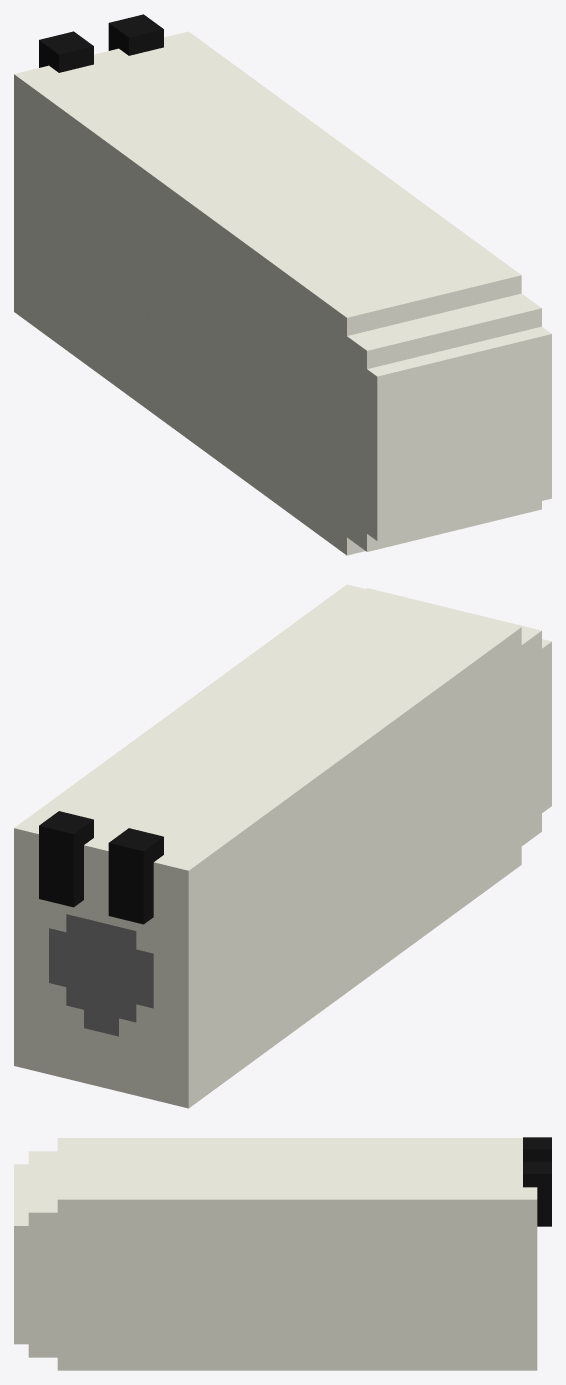
The model's file is enemyArm.obj.
3 views of the same model, one above another, from view 1: azimuth 30°, elevation 25°; view 2: azimuth 150°, elevation 25°; view 3: azimuth 270°, elevation 25° (orthographic). The views are drawn at different scales.
Bounding box in the file's own units: 1 × 1.4 × 3.7.
Materials: 1 (1 with a texture image).
